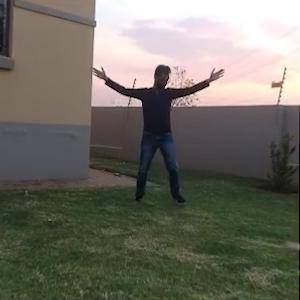takeoff: (93, 67, 221, 208)
